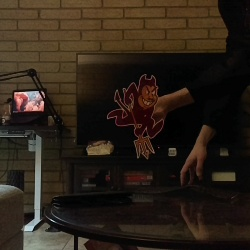sparky: (106, 73, 164, 159)
